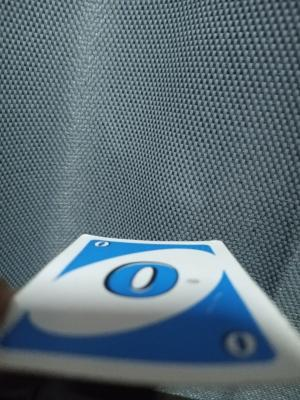blue: (86, 237, 231, 365)
